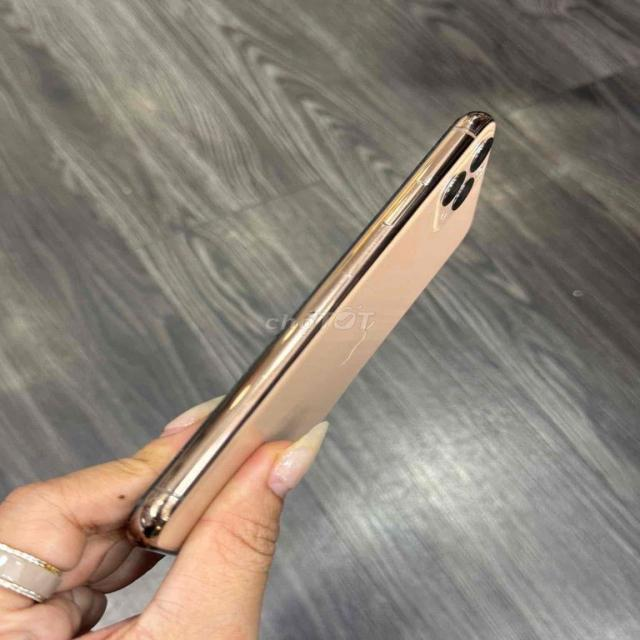gen_11: (115, 108, 524, 559)
